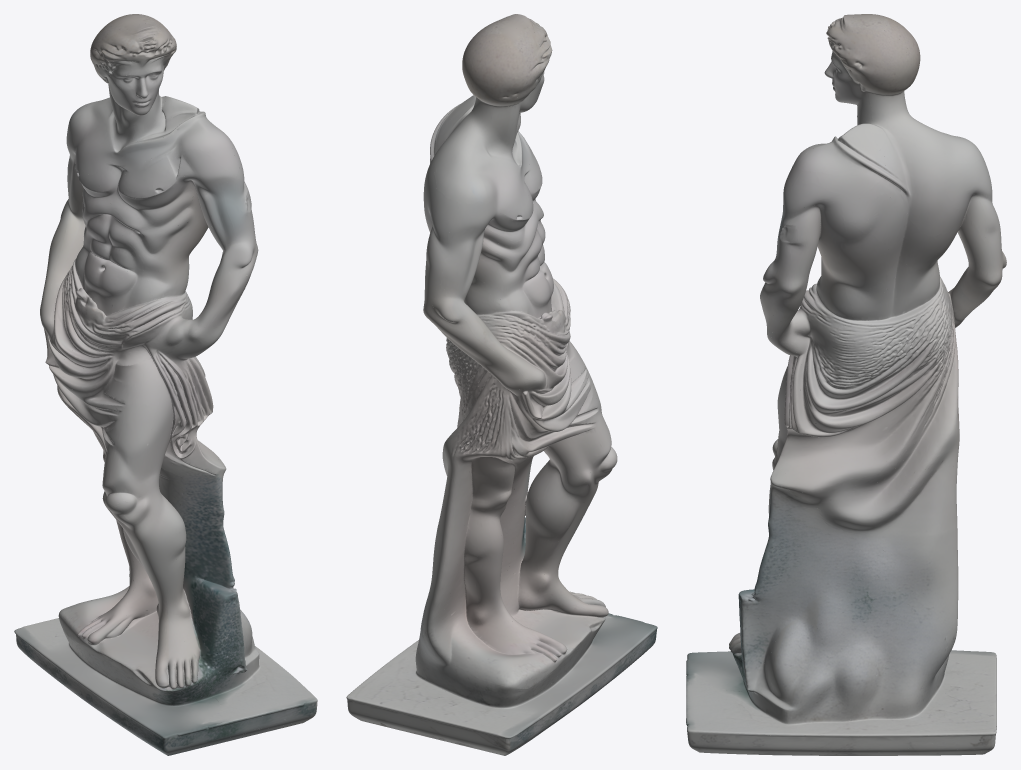
The model's file is patung.glb.
3 renders of one model, left to right at view 1: azimuth 30°, elevation 25°; view 2: azimuth 150°, elevation 25°; view 3: azimuth 270°, elevation 25°, orthographic. The views are drawn at different scales.
Parts seen in each view (by area): view 1: Object_13; view 2: Object_13; view 3: Object_13.
Boxes of the visible parts, x1,y1,x2,y2 form: Object_13: (14,14,317,755); Object_13: (346,14,657,755); Object_13: (686,14,1006,755).
Size of the model in its own units: 0.2931 by 1.1 by 0.4615.
1 material, 1 textured.
